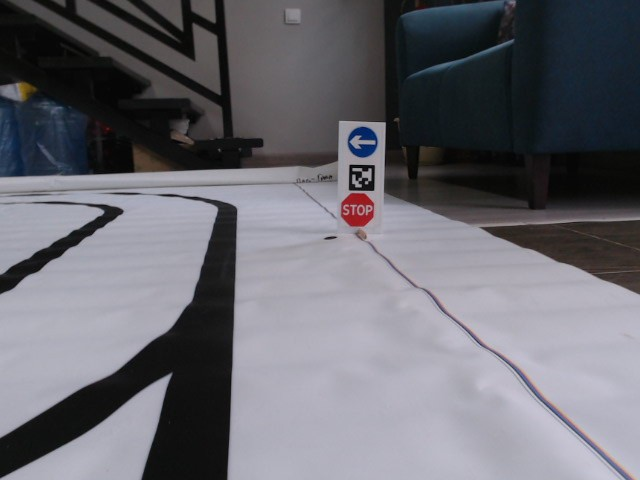Stop: (339, 192, 376, 228)
